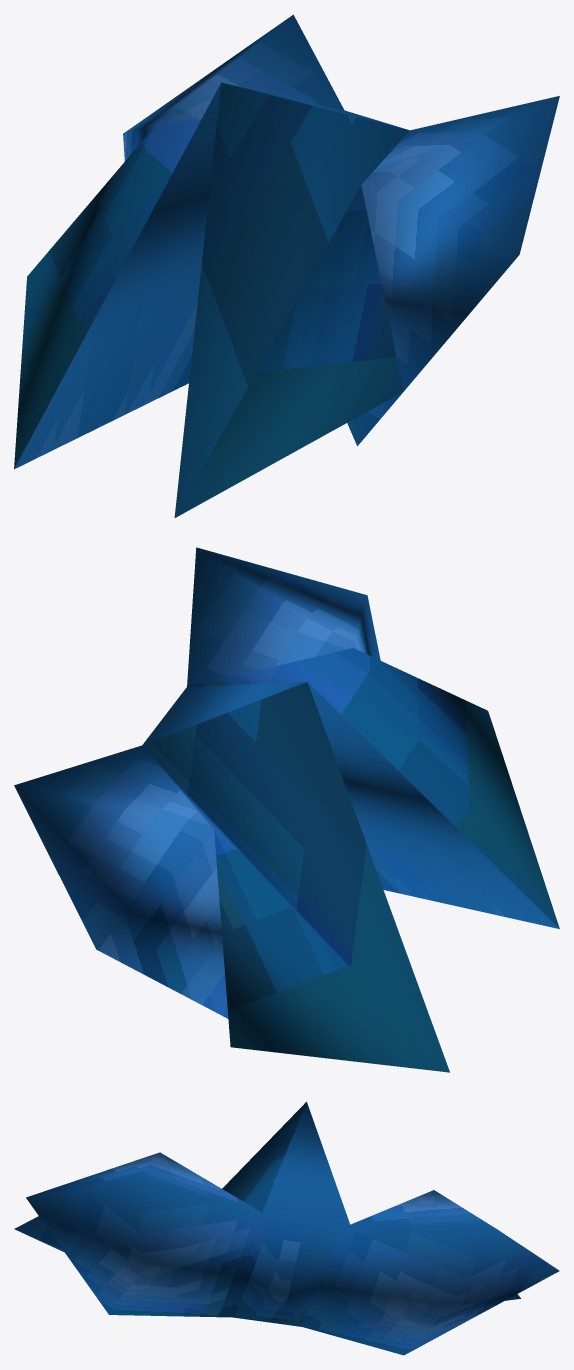
The model's file is cap_ribbon_blu.dae.
3 views of the same model, one above another, from view 1: azimuth 30°, elevation 25°; view 2: azimuth 150°, elevation 25°; view 3: azimuth 270°, elevation 25° (orthographic). The views are drawn at different scales.
Visible parts, largest first — view 1: cap_ribbon_blu; view 2: cap_ribbon_blu; view 3: cap_ribbon_blu.
Boxes of the visible parts, <box> form: cap_ribbon_blu: <box>14,14,559,517</box>; cap_ribbon_blu: <box>14,547,559,1072</box>; cap_ribbon_blu: <box>14,1101,559,1355</box>.
Bounding box in the file's own units: 5.73 × 4.96 × 8.54.
Materials: 1 (1 with a texture image).
